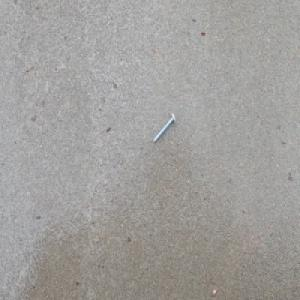Nail: (152, 112, 176, 144)
